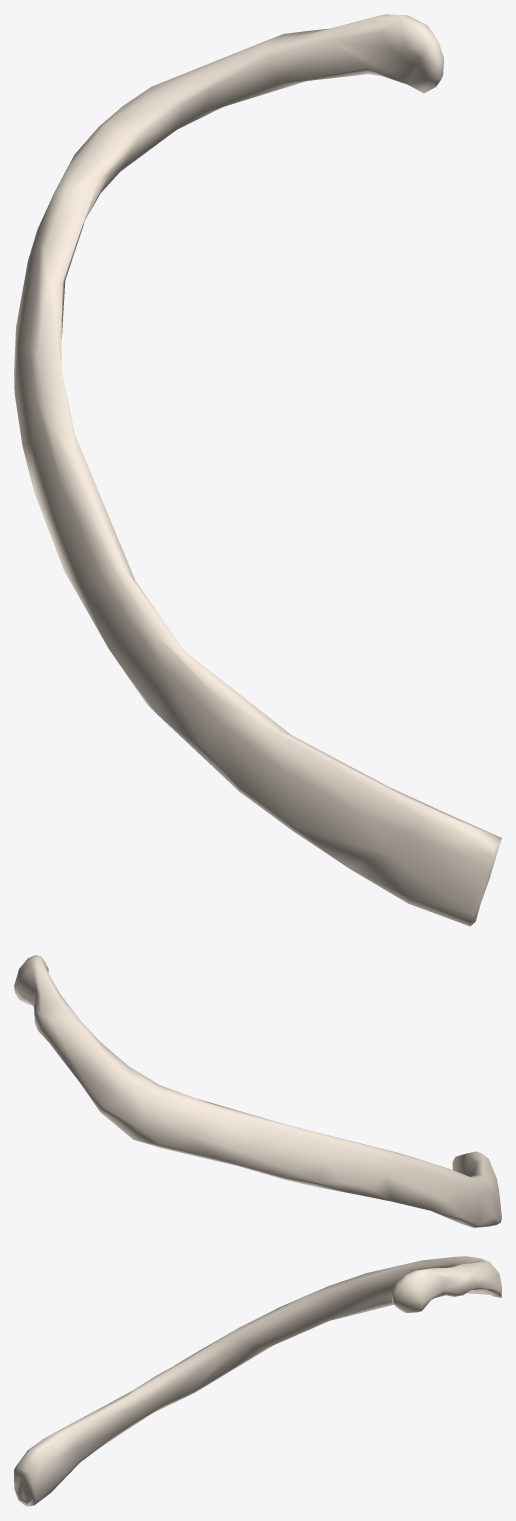
Rendered from right_rib_6.glb.
3 views of the same model, one above another, from view 1: azimuth 30°, elevation 25°; view 2: azimuth 150°, elevation 25°; view 3: azimuth 270°, elevation 25° (orthographic). The views are drawn at different scales.
Visible parts, largest first — view 1: Rib (6th).r; view 2: Rib (6th).r; view 3: Rib (6th).r.
Boxes of the visible parts, <box> form: Rib (6th).r: <box>14,14,501,926</box>; Rib (6th).r: <box>14,955,501,1227</box>; Rib (6th).r: <box>14,1256,501,1506</box>.
Bounding box in the file's own units: 0.1241 × 0.1382 × 0.1951.
